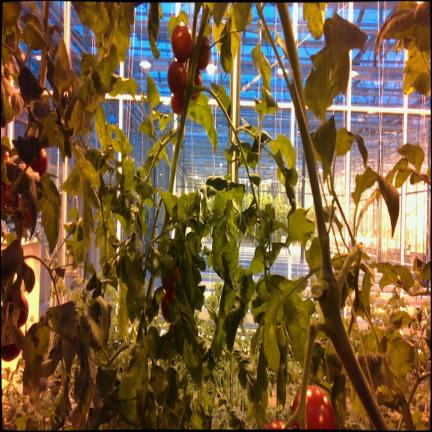MainStem: (277, 3, 390, 430), (169, 5, 209, 193)
tomato: (292, 386, 335, 429), (171, 25, 192, 62), (168, 61, 186, 94), (197, 36, 210, 70), (162, 291, 174, 322), (192, 69, 202, 100), (171, 92, 184, 114), (161, 274, 175, 294), (266, 420, 284, 429)
